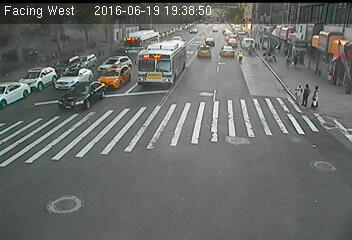neg: (4, 52, 37, 96), (138, 73, 162, 105), (149, 34, 172, 64), (253, 50, 275, 79), (320, 62, 336, 83), (72, 58, 88, 79)
pos: (308, 83, 329, 111), (284, 80, 304, 107), (235, 48, 248, 64), (292, 52, 304, 68), (281, 53, 293, 68)
